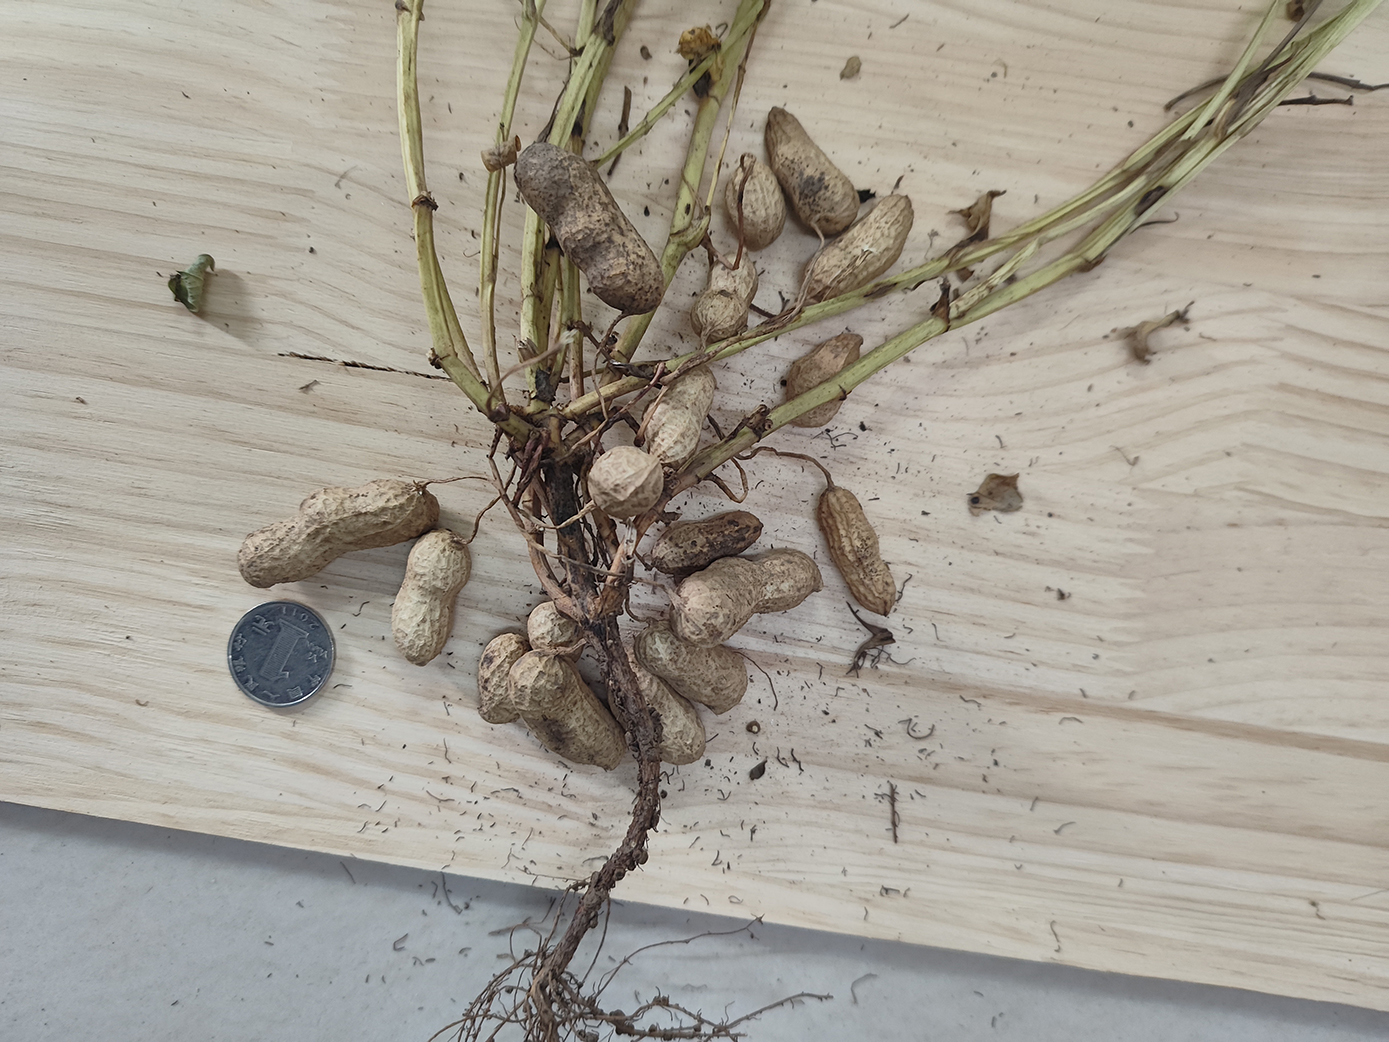h: (238, 481, 439, 584), (508, 650, 629, 769), (670, 554, 824, 645), (767, 104, 861, 240), (806, 197, 913, 303), (392, 530, 472, 669), (606, 658, 706, 767), (820, 484, 902, 616), (634, 626, 750, 715), (643, 364, 714, 464), (786, 336, 863, 428), (651, 513, 764, 571), (693, 251, 759, 341), (586, 447, 661, 516), (729, 160, 784, 251), (481, 632, 526, 725), (525, 601, 586, 661)
l: (514, 143, 665, 315)
